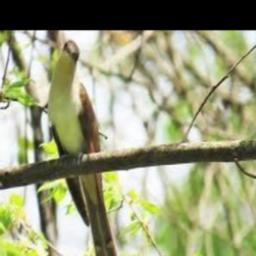Cuckoo: (48, 40, 118, 256)
